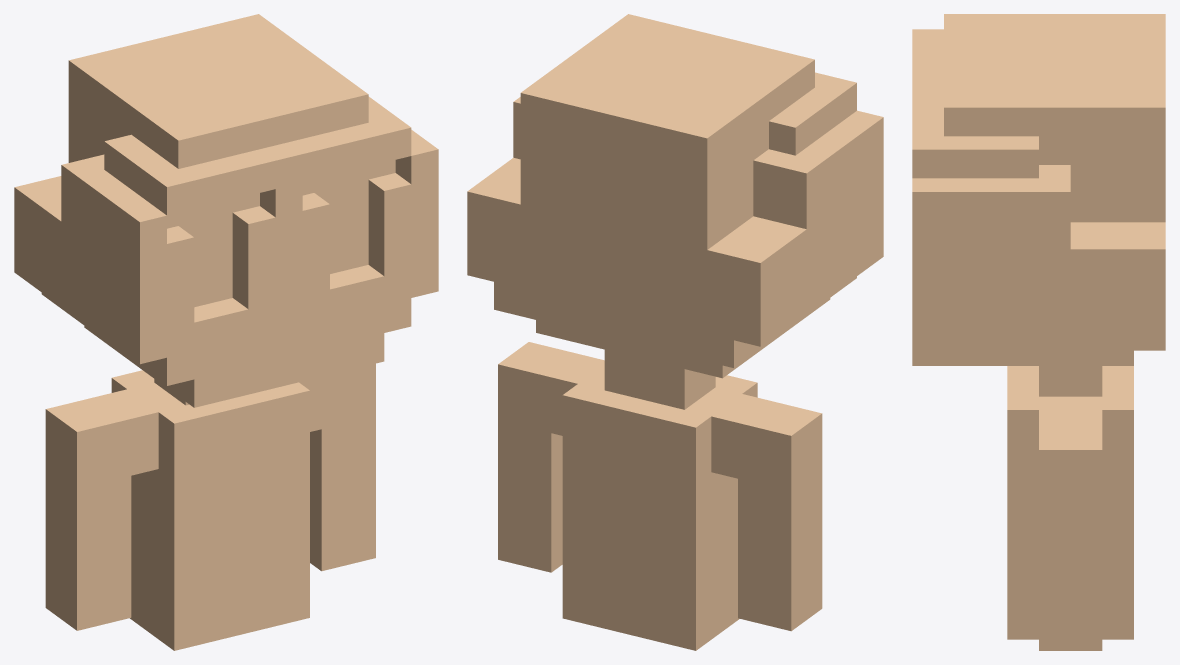
Rendered from Union_13.fbx.
The picture shows the model from 3 angles, left to right: view 1: azimuth 30°, elevation 25°; view 2: azimuth 150°, elevation 25°; view 3: azimuth 270°, elevation 25°; orthographic projection. The views are drawn at different scales.
Parts seen in each view (by area): view 1: Union_13; view 2: Union_13; view 3: Union_13.
Boxes of the visible parts, x1,y1,x2,y2 form: Union_13: (14,14,438,650); Union_13: (467,14,883,650); Union_13: (912,14,1165,650).
Bounding box in the file's own units: 11 × 19 × 8.
1 material, 1 textured.
